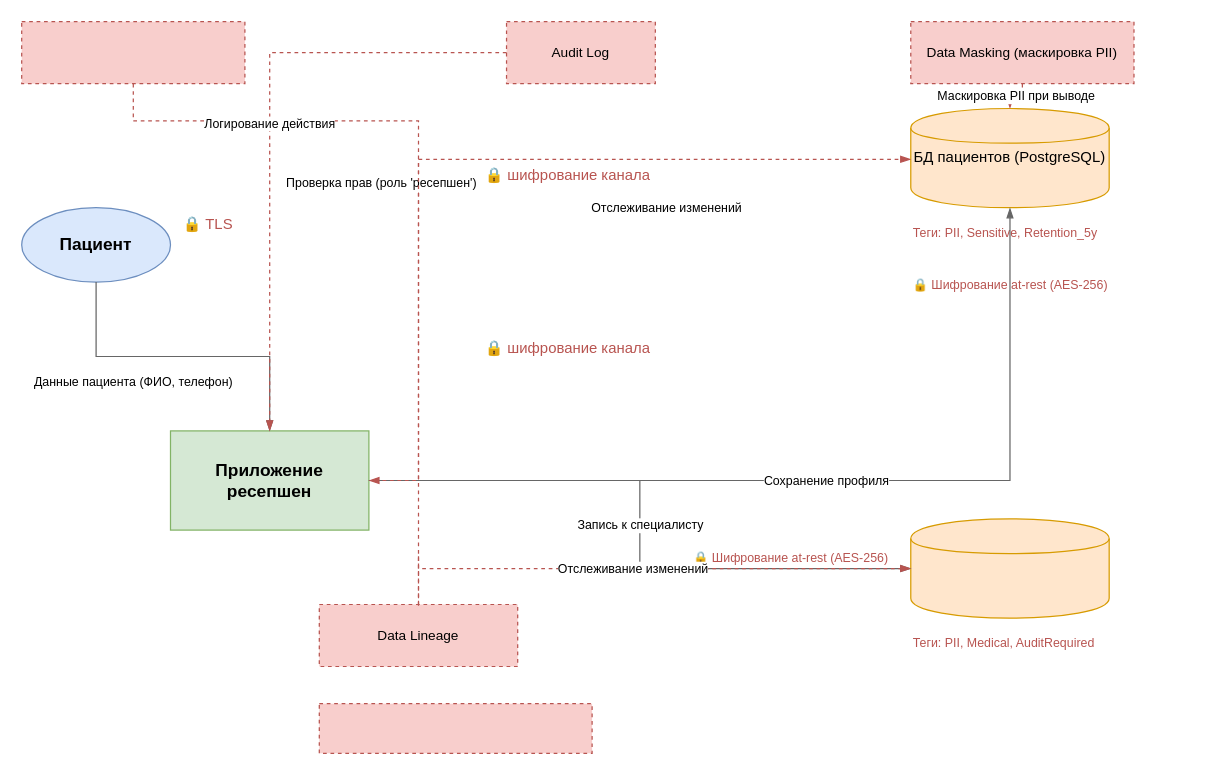
The diagram is 1205 pixels wide and 775 high, and some of its shapes have lost their labels. Here are the shapes that lost their labels. From the top down, the box of each, then its label:
(20, 20, 245, 84): Policy Enforcement Point (ABAC)
(910, 518, 1109, 618): БД журналов записей
(318, 702, 592, 753): RBAC: врачи видят только своих пациентов
